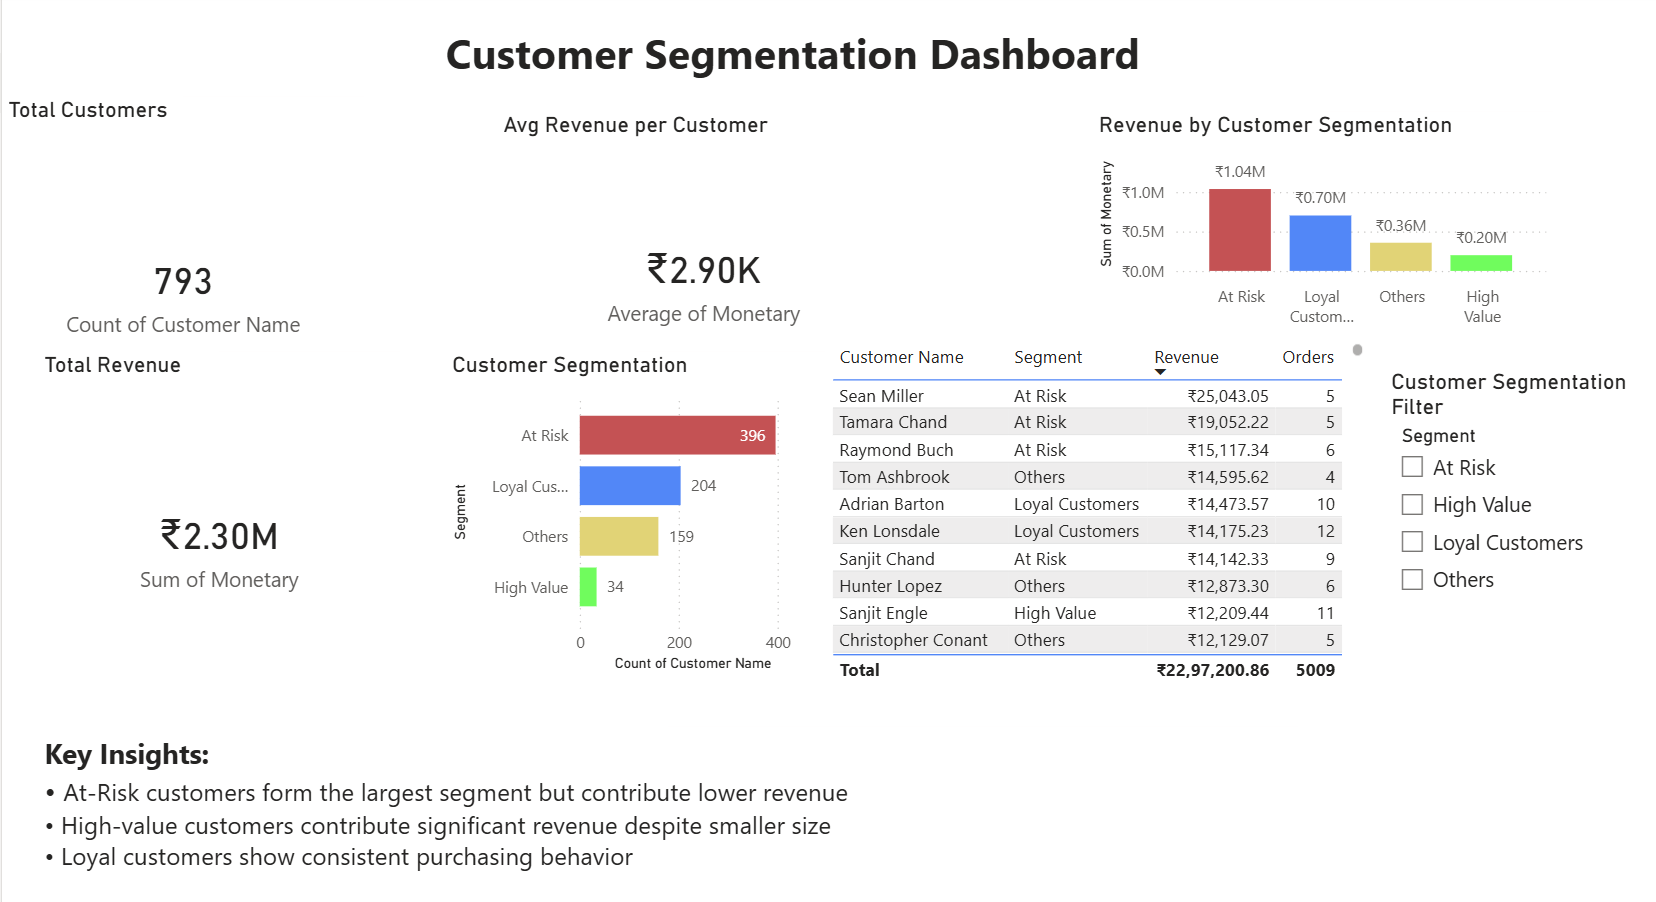

This screenshot's page, from the dashboard's own definition file:
{"tool":"powerbi","page":{"name":"Page 1","canvas":[1280,720],"ordinal":0},"visuals":[{"type":"card","title":"Total Customers","fields":{"Values":["Count(rfm_output.Customer Name)"]},"box":[0,80,279.3,280.4],"z":0},{"type":"card","title":"Total Revenue","fields":{"Values":["Sum(rfm_output.Monetary)"]},"box":[27.8,276.9,279.3,280.4],"z":1000},{"type":"card","title":"Avg Revenue per Customer","fields":{"Values":["Avg(rfm_output.Monetary)"]},"box":[382.4,91.5,318.7,241],"z":2000},{"type":"clusteredBarChart","title":"Customer Segmentation","fields":{"Category":["rfm_output.Segment"],"Y":["Count(rfm_output.Customer Name)"]},"box":[343,276.9,293.2,251.4],"z":3000},{"type":"clusteredColumnChart","title":"Revenue by Customer Segmentation","fields":{"Category":["rfm_output.Segment"],"Y":["Sum(rfm_output.Monetary)"]},"box":[842.4,91.5,355.7,173.8],"z":4000},{"type":"tableEx","fields":{"Values":["rfm_output.Customer Name","rfm_output.Segment","Sum(rfm_output.Monetary)","Sum(rfm_output.Frequency)"]},"box":[636.1,265.3,420.6,271.1],"z":5000},{"type":"slicer","title":"Customer Segmentation Filter","fields":{"Values":["rfm_output.Segment"]},"box":[1068.4,289.7,200.5,183.1],"z":6000},{"type":"textbox","box":[329.1,18.5,651.2,73],"z":7000},{"type":"textbox","box":[27.8,566.6,973.3,153],"z":8000}]}

Visuals, with their boxes on the page's 1280x720 design canvas (x1, y1, x2, y2). These are canvas units, not pixel positions in the 1656x902 screenshot, which may show the page scaled, cropped or inside an application window:
"Total Customers" card: x1=0, y1=80, x2=279, y2=360
"Total Revenue" card: x1=28, y1=277, x2=307, y2=557
"Avg Revenue per Customer" card: x1=382, y1=92, x2=701, y2=332
"Customer Segmentation" clusteredBarChart: x1=343, y1=277, x2=636, y2=528
"Revenue by Customer Segmentation" clusteredColumnChart: x1=842, y1=92, x2=1198, y2=265
tableEx - rfm_output.Customer Name x rfm_output.Segment: x1=636, y1=265, x2=1057, y2=536
"Customer Segmentation Filter" slicer: x1=1068, y1=290, x2=1269, y2=473
textbox: x1=329, y1=18, x2=980, y2=92
textbox: x1=28, y1=567, x2=1001, y2=720
